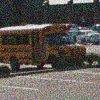buses: (0, 22, 87, 74)
